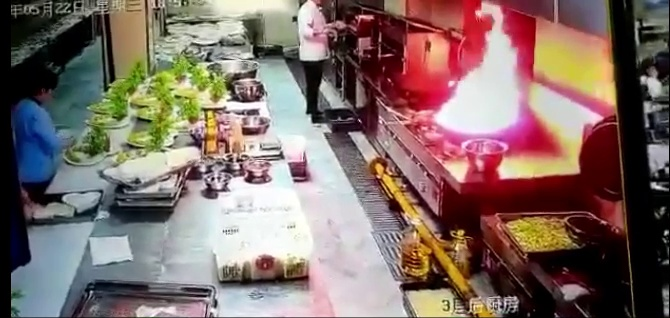fire: (441, 32, 527, 134)
